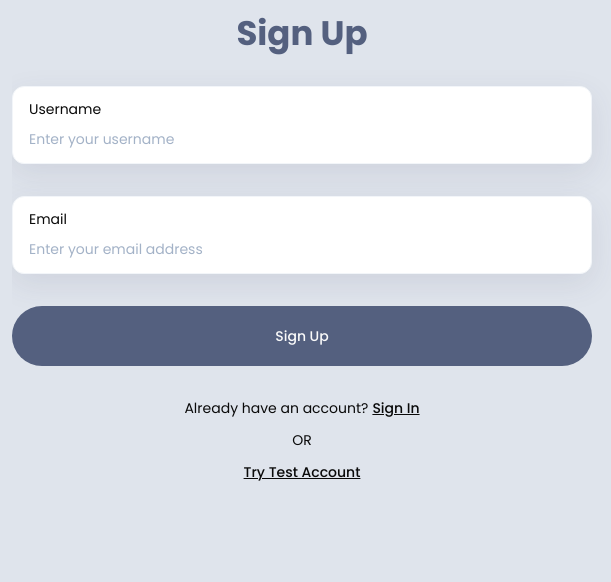
Test: AuthForm component › Error handling › displays generic error message on unexpected error
In the field labelled "Email": (302, 249) [29,229,575,269], type "test@example.com"
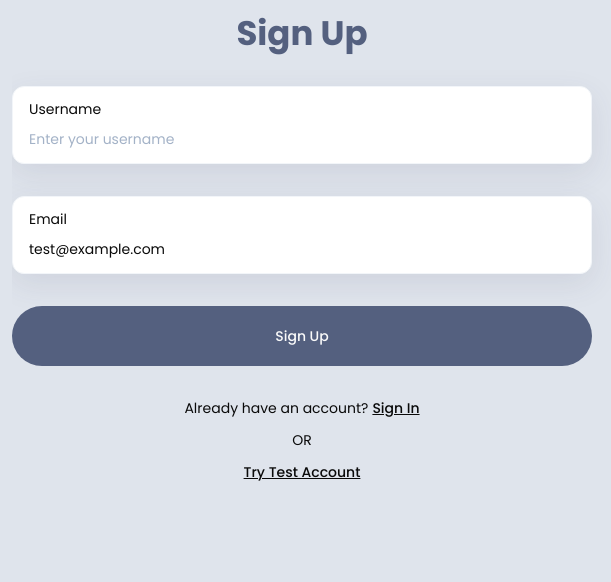
In the field labelled "Username": (302, 139) [29,119,575,159], type "testuser"
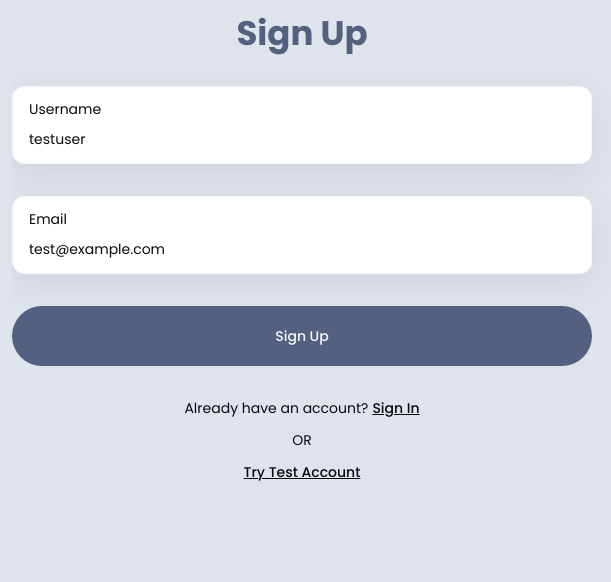
Click the button with aria-label "submit form": (302, 336) [12,306,592,366]
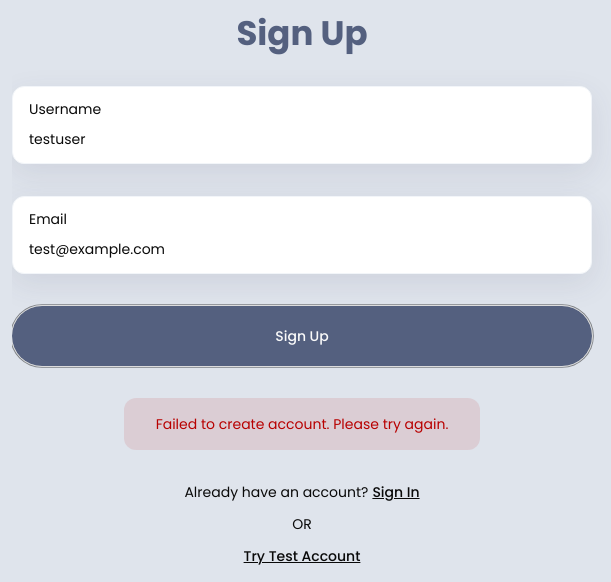
Expected: the message shows "Failed to create account", [156,414,448,434]
